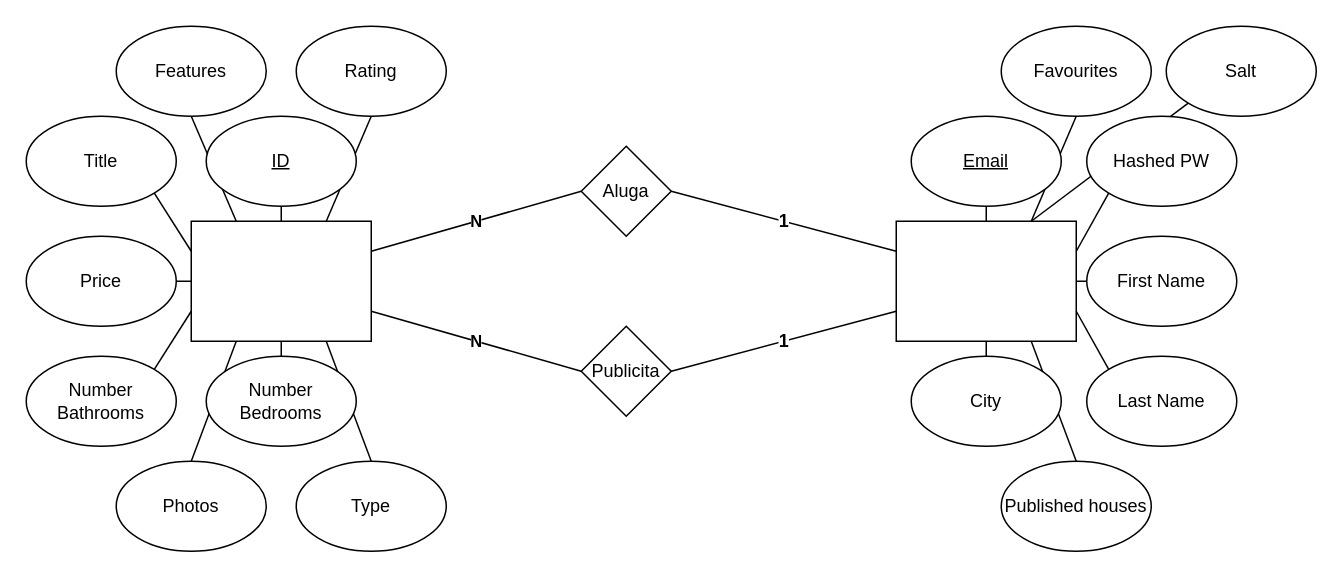
Some shapes in this 1343 by 578 pixel diagram are drawn without their labels. The centre of each missing label's shape, as x and y in pixels:
Place: the point at 280,280
User: the point at 985,280
